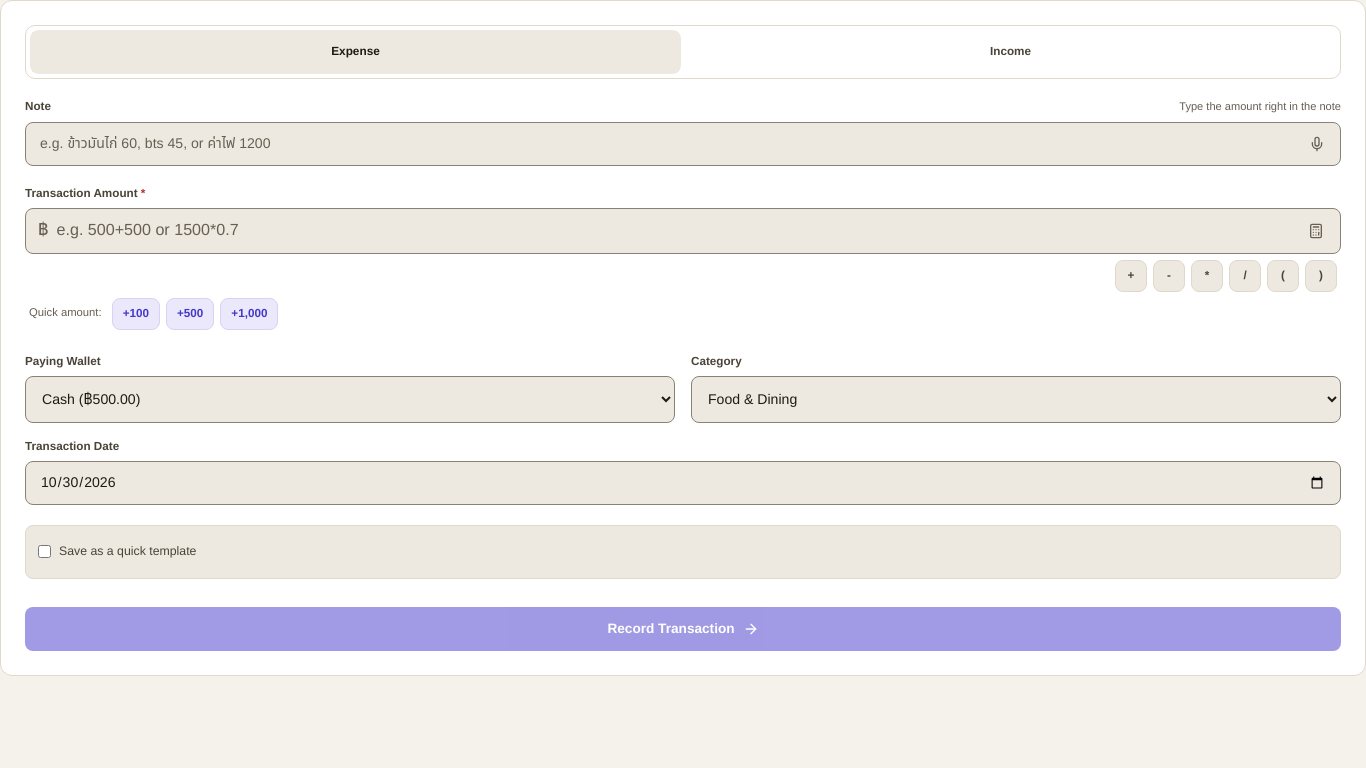
Test: the entry form › drops a refused save's message when the amount is edited, and keeps it until then
Type "60" into the field with id "t-amount-math" at (676, 230), box [56,208,1296,252]
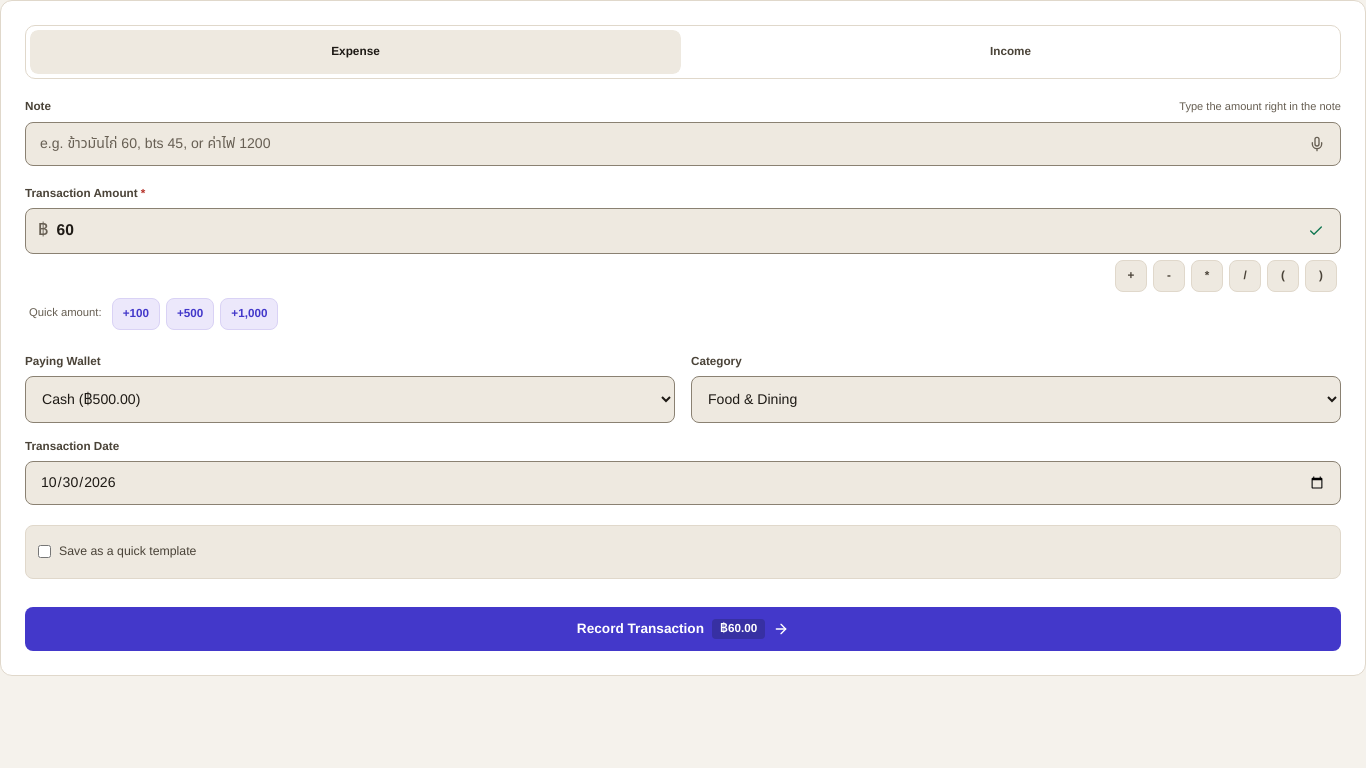
Click the button with id "t-confirm-btn" at (683, 628), box [25,606,1341,650]
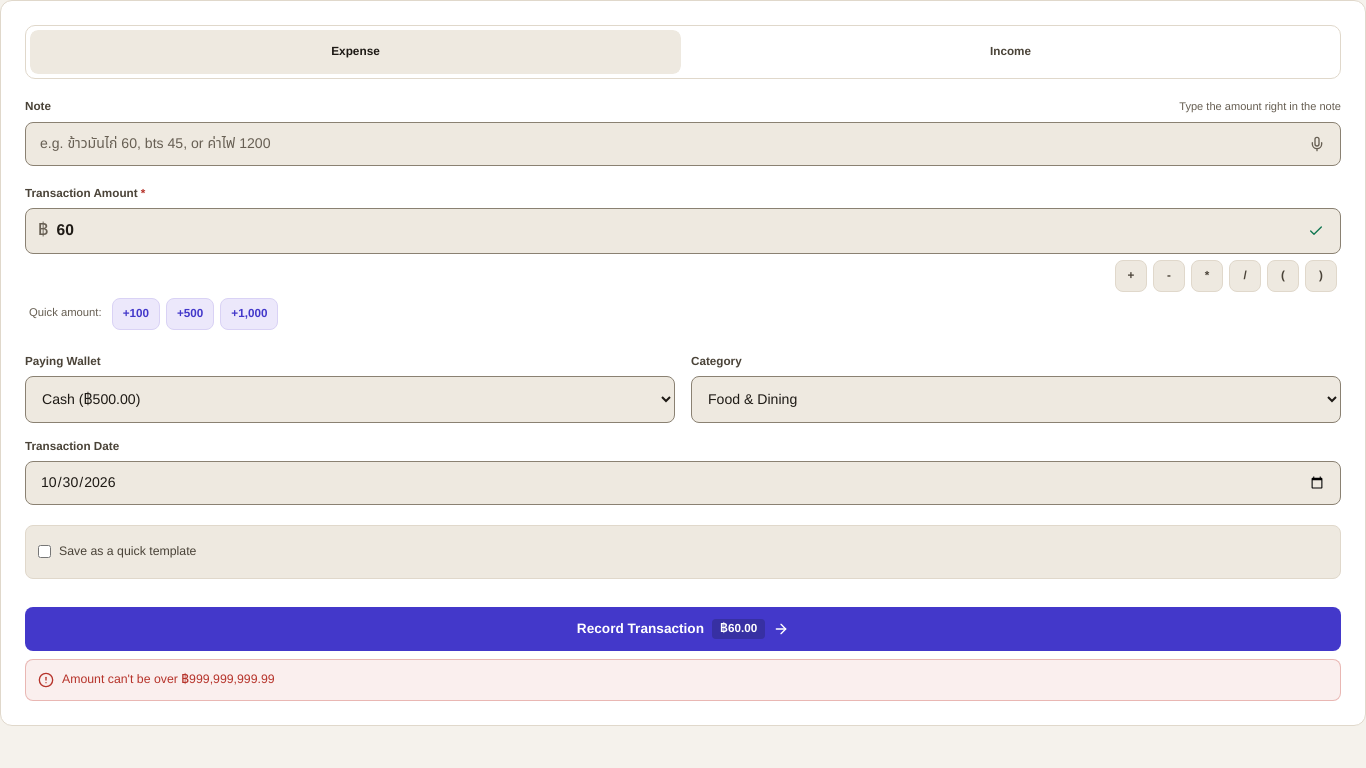
Now the text "Amount can't be over ฿999,999,999.99" is shown, box [62,672,275,688]
// Editing the note leaves it: the note did not cause it.
Type "lunch" into the field labelled "Note" at (683, 144), box [25,122,1341,166]
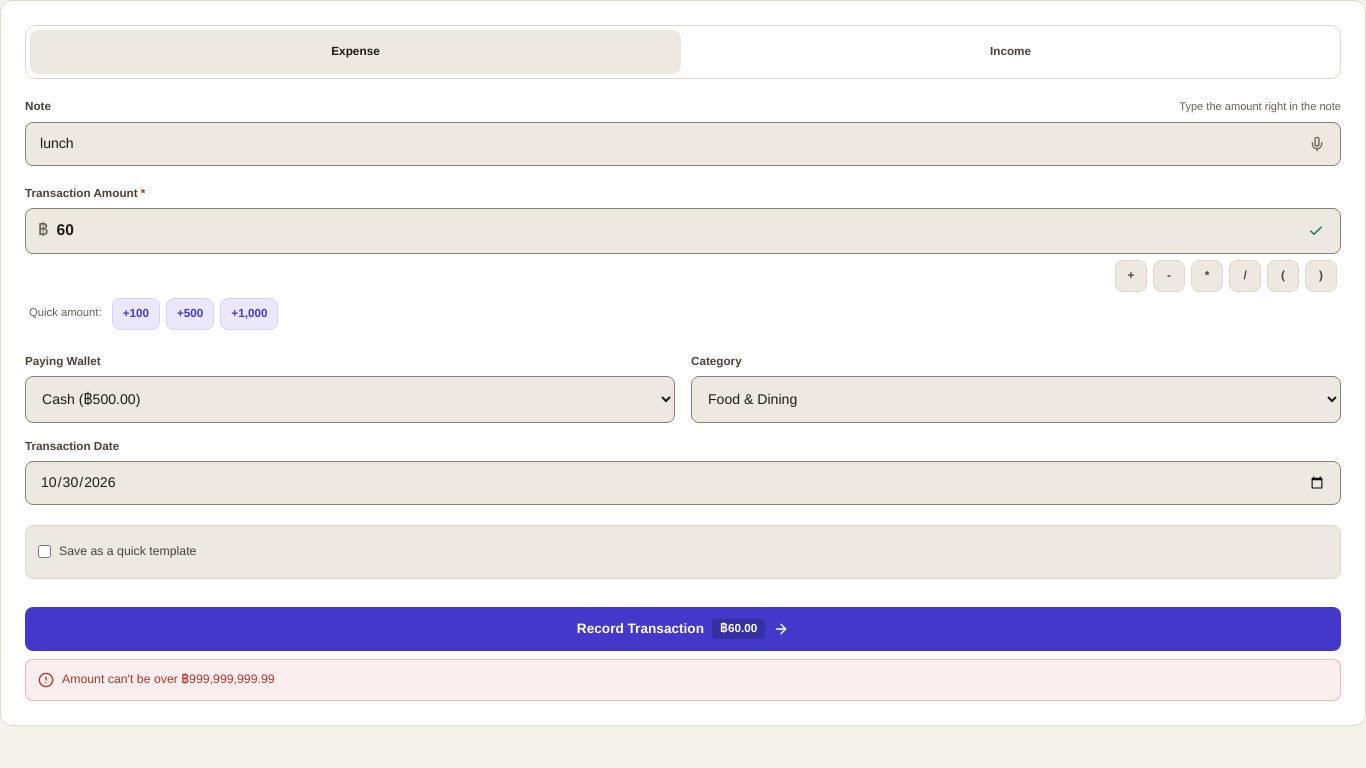
Now the text "Amount can't be over ฿999,999,999.99" is shown, box [62,672,275,688]
Replace the text in the field with id "t-amount-math" with "65" at (676, 230), box [56,208,1296,252]
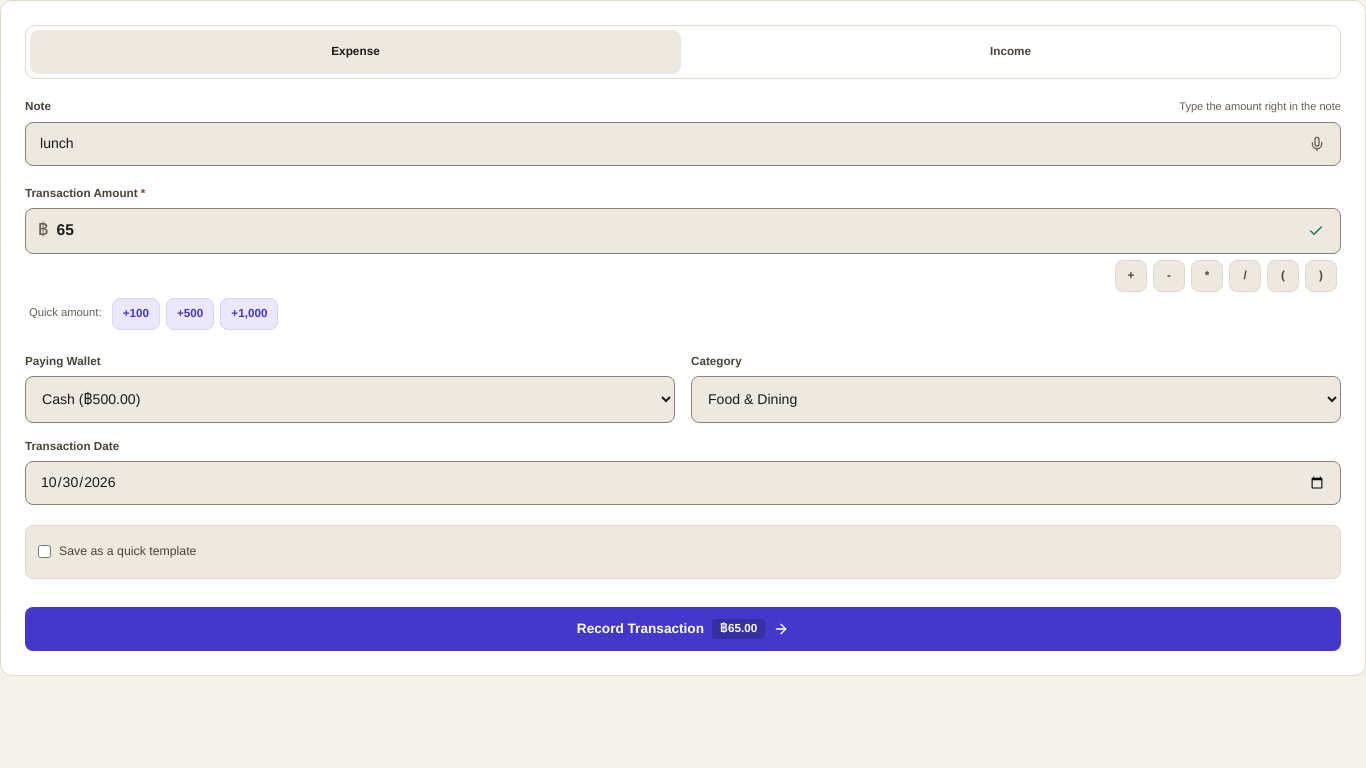
Now the text "Amount can't be over ฿999,999,999.99" is gone
